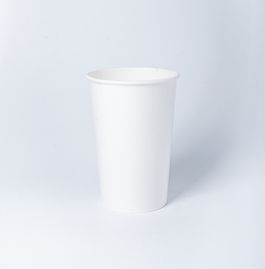PaperCup: (84, 65, 180, 213)
